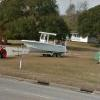Boat: (15, 32, 73, 58)
